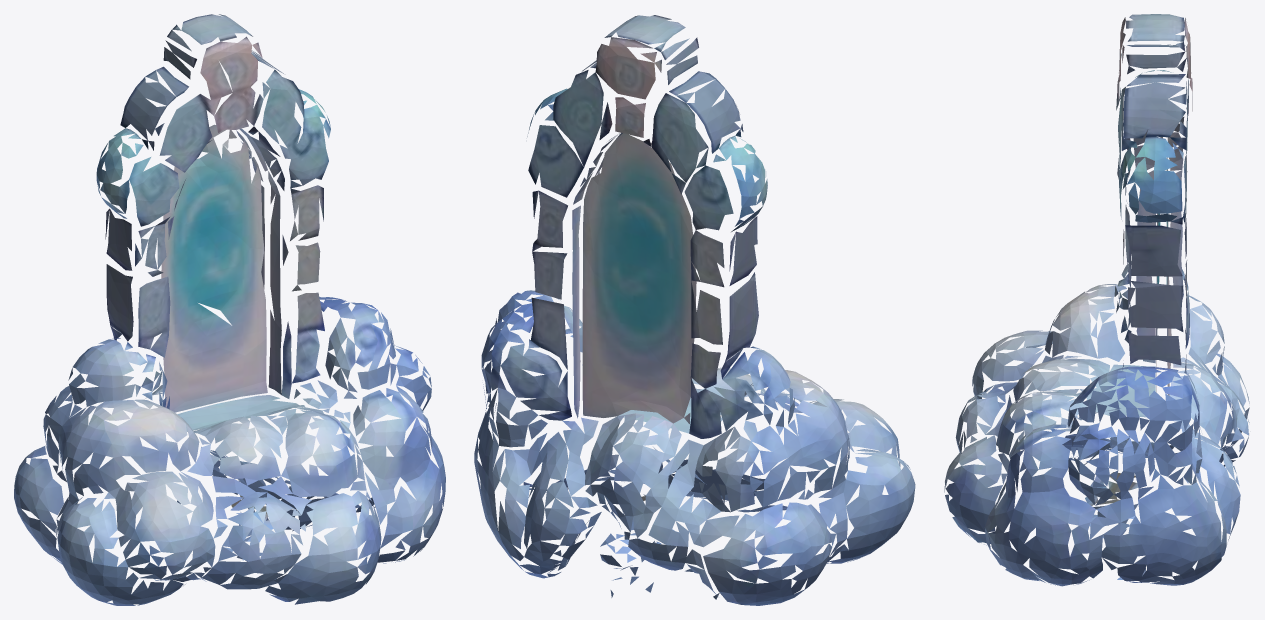
The model's file is portal_clouds.glb.
The picture shows the model from 3 angles, left to right: view 1: azimuth 30°, elevation 25°; view 2: azimuth 150°, elevation 25°; view 3: azimuth 270°, elevation 25°; orthographic projection. The views are drawn at different scales.
Parts seen in each view (by area): view 1: world; view 2: world; view 3: world.
Part boxes in pixels (<box>): world: <box>14,14,445,605</box>; world: <box>474,15,915,605</box>; world: <box>944,14,1249,586</box>.
Size of the model in its own units: 0.7114 by 0.9982 by 0.5132.
1 material, 1 textured.
